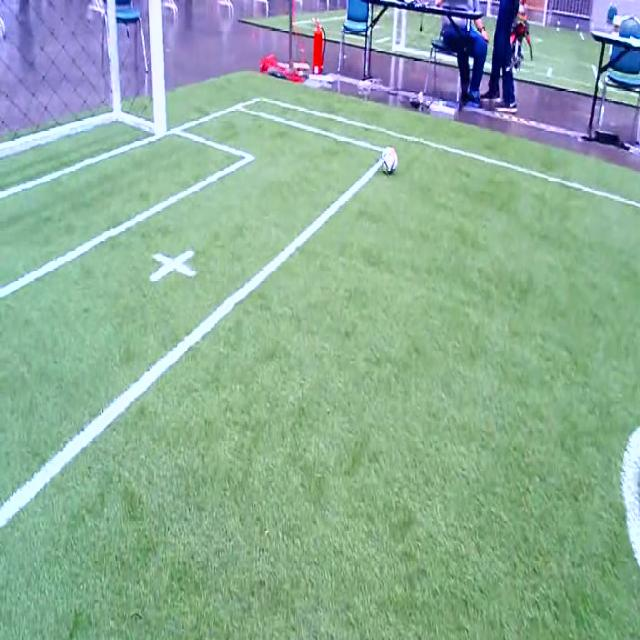ball: (382, 147, 398, 174)
